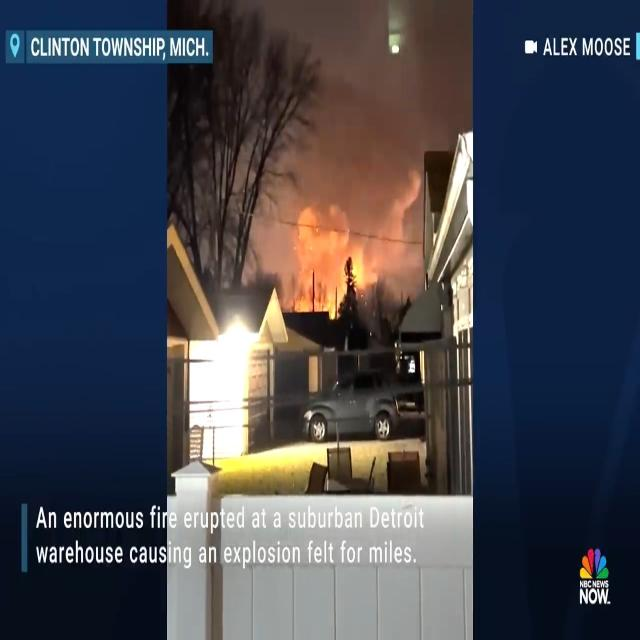fire: (311, 284, 349, 318), (315, 284, 346, 317), (350, 249, 368, 284)
